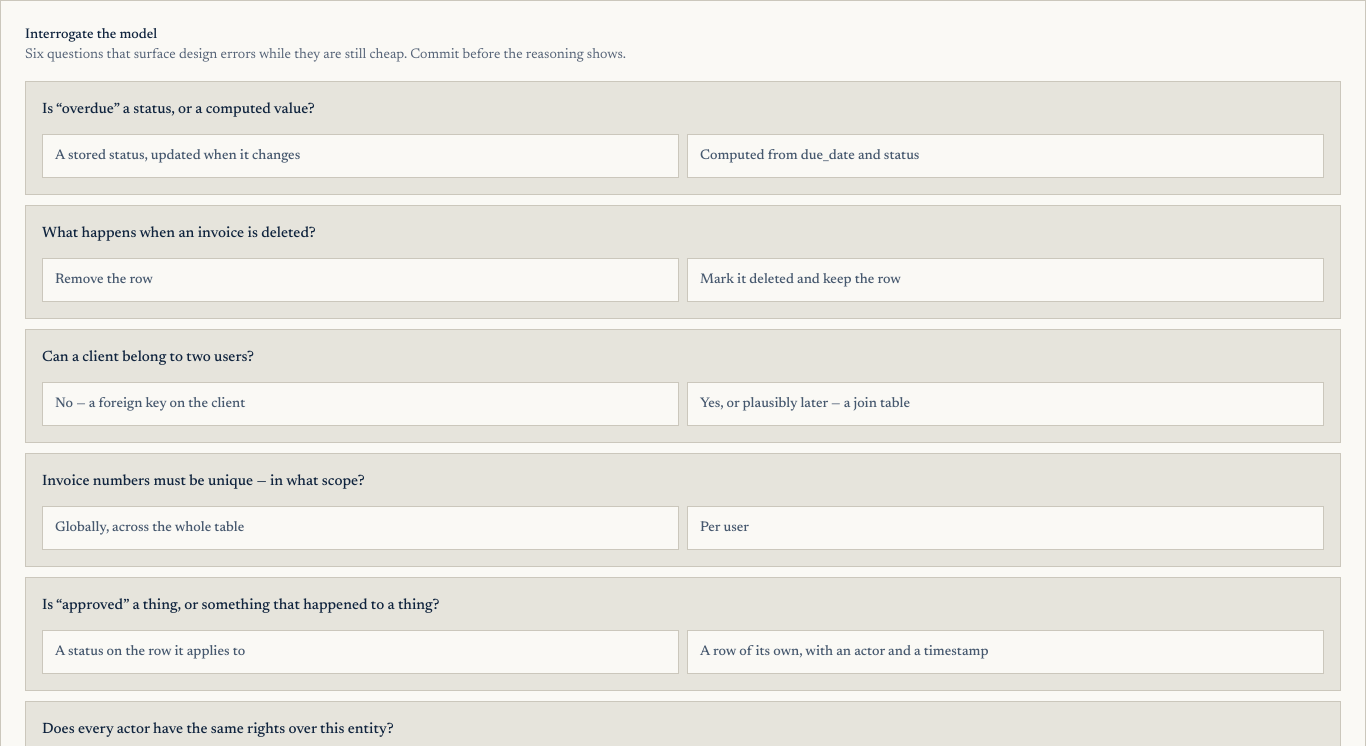
Test case: shows the reasoning after a wrong answer, since an exercise that explains itself only when you are right teaches the readers who least need it
The image size is (1366, 746).
Click the radio button labelled "A stored status, updated when it changes" at (178, 156), box [42,134,679,178]
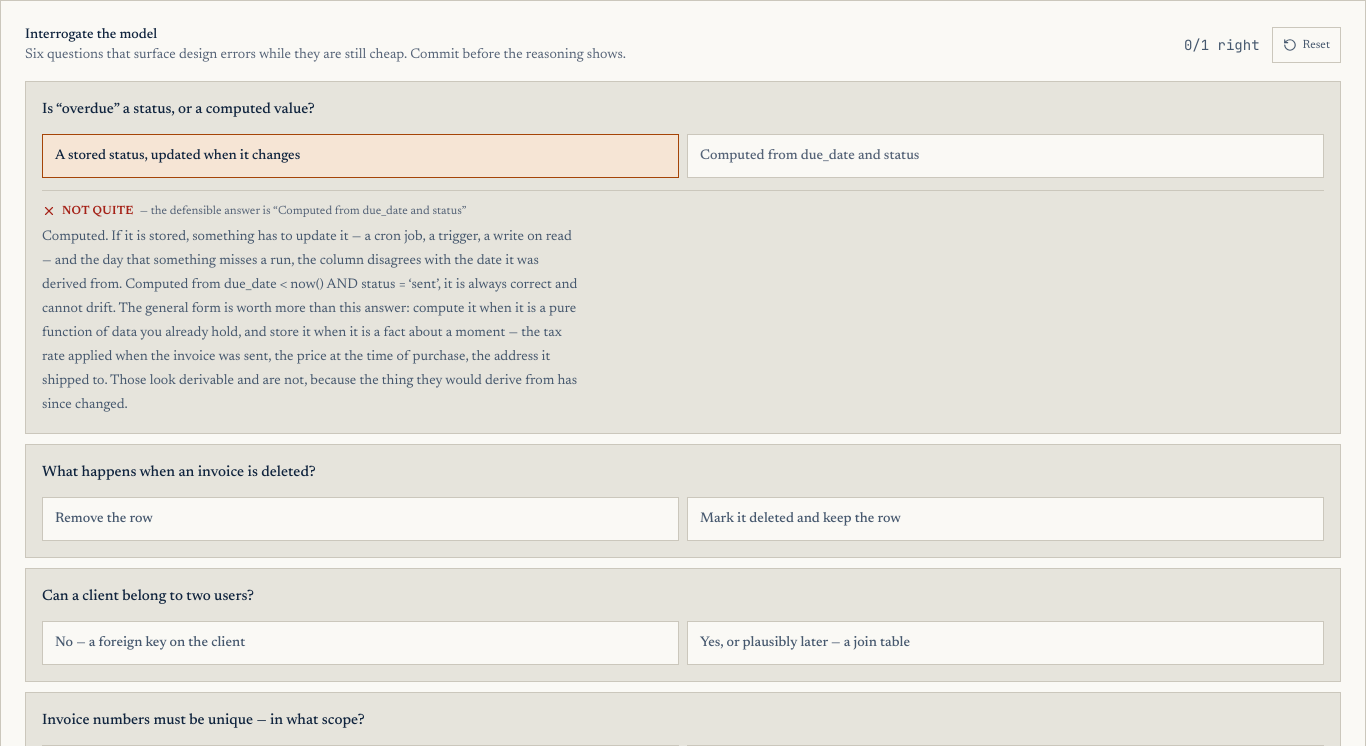
expect the text "Not quite" is shown: met, box [62,205,134,217]
expect the text "Computed. If it is stored, something has to update it — a cron job, a trigger, a write on read — and the day that someth" is shown: met, box [42,230,577,412]
